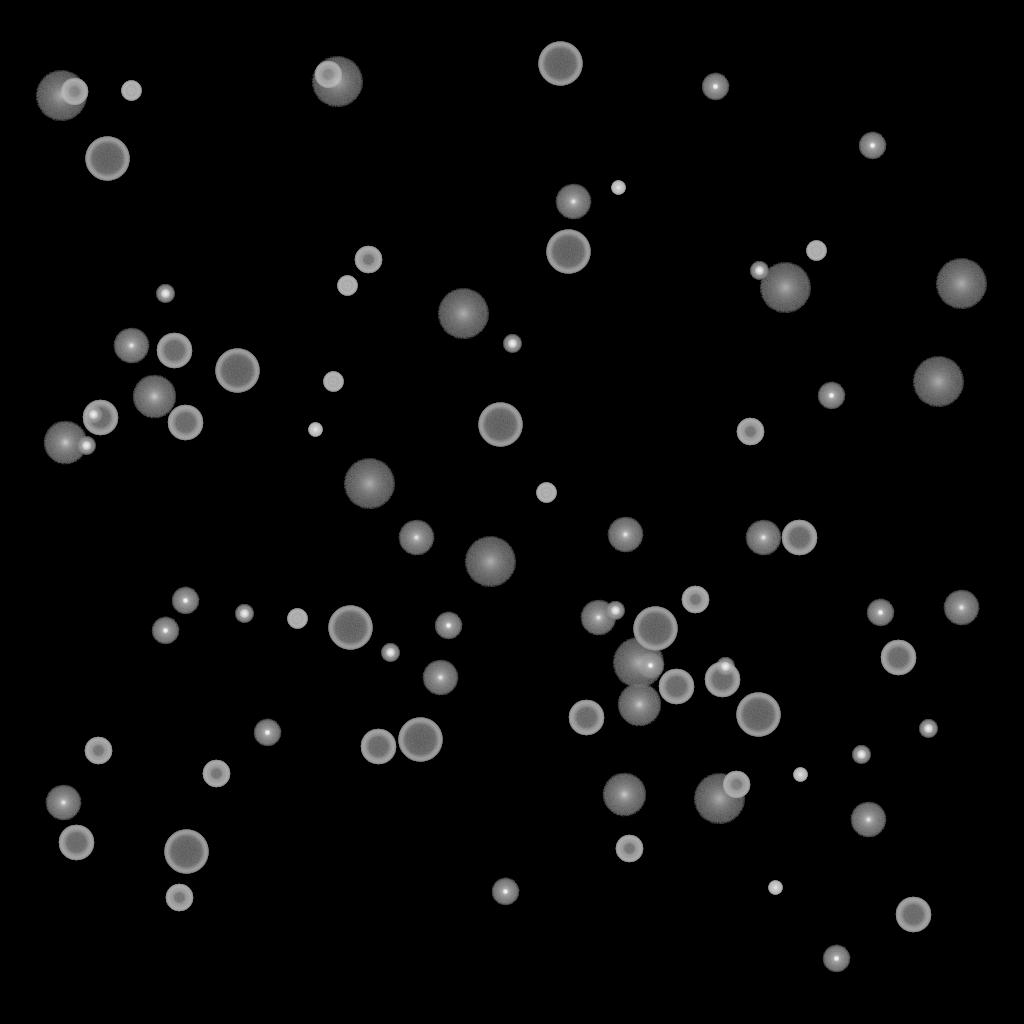depth:-10: (151, 617, 179, 645), (858, 132, 886, 160), (701, 73, 729, 101), (491, 878, 519, 906), (434, 612, 462, 640), (817, 382, 845, 410), (866, 599, 894, 627), (253, 719, 281, 747), (171, 587, 199, 615), (822, 945, 850, 973), (636, 652, 664, 680)
depth:-20: (750, 262, 768, 280), (84, 406, 102, 424), (716, 658, 734, 676), (919, 720, 937, 738), (77, 437, 95, 455), (606, 602, 624, 620), (852, 746, 870, 764), (156, 285, 174, 303), (235, 605, 253, 623), (381, 644, 399, 662), (503, 335, 521, 353)
depth:-30: (793, 768, 807, 782), (308, 423, 322, 437), (611, 181, 625, 195), (768, 881, 782, 895)
depth:-40: (806, 241, 826, 261), (121, 81, 141, 101), (337, 276, 357, 296), (287, 609, 307, 629), (536, 483, 556, 503), (323, 372, 343, 392)
depth:-50: (314, 61, 342, 89), (615, 835, 643, 863), (354, 246, 382, 274), (84, 737, 112, 765), (681, 586, 709, 614), (165, 884, 193, 912), (736, 418, 764, 446), (722, 771, 750, 799), (202, 760, 230, 788), (60, 78, 88, 106)
depth:-60: (58, 825, 94, 861), (156, 333, 192, 369), (895, 897, 931, 933), (781, 520, 817, 556), (360, 729, 396, 765), (167, 405, 203, 441), (658, 669, 694, 705), (82, 400, 118, 436), (568, 700, 604, 736), (704, 662, 740, 698), (880, 640, 916, 676)
depth:-70: (215, 349, 259, 393), (633, 607, 677, 651), (546, 230, 590, 274), (328, 606, 372, 650), (164, 830, 208, 874), (736, 693, 780, 737), (398, 718, 442, 762), (85, 137, 129, 181), (538, 42, 582, 86), (478, 403, 522, 447)
depth:0: (398, 520, 434, 556), (607, 517, 643, 553), (422, 660, 458, 696), (45, 785, 81, 821), (580, 600, 616, 636), (850, 802, 886, 838), (745, 520, 781, 556), (555, 184, 591, 220), (113, 328, 149, 364), (943, 590, 979, 626)
depth:10: (43, 421, 87, 465), (602, 773, 646, 817), (617, 683, 661, 727), (132, 375, 176, 419)
depth:20: (693, 774, 745, 824), (935, 259, 987, 309), (437, 289, 489, 339), (612, 638, 664, 688), (311, 57, 363, 107), (759, 263, 811, 313), (464, 537, 516, 587), (912, 357, 964, 407), (35, 71, 87, 121), (343, 459, 395, 509)
